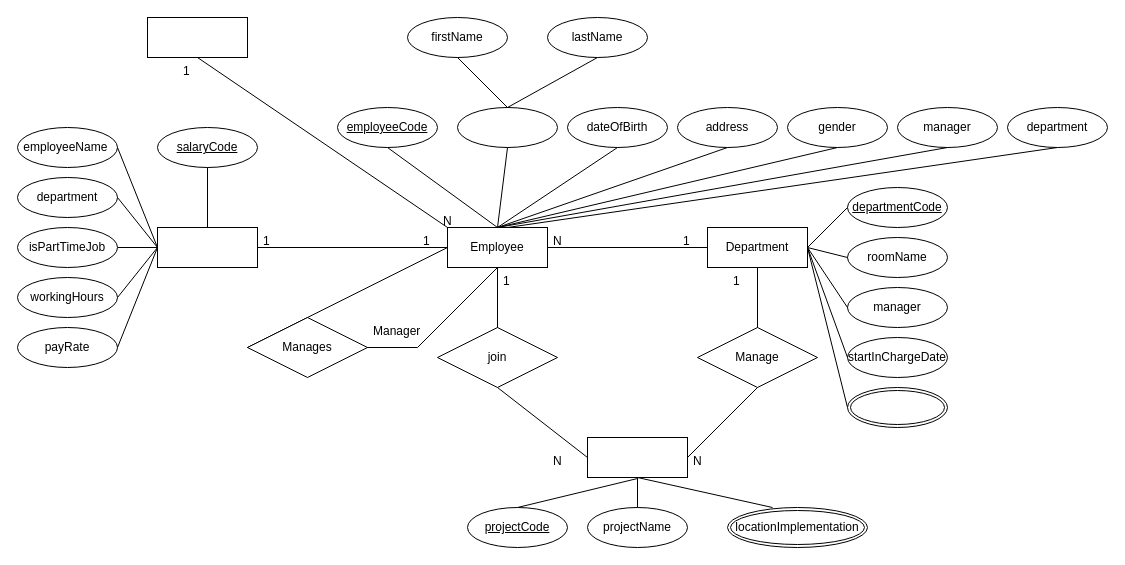
This 1125x565 diagram has some shape labels left out. The shapes that lost their labels are listed below. From the top down, each one's centre as x and y in pixels, then its label:
point 197,37: Industry Company
point 507,127: Full Name
point 207,247: Salary
point 897,407: location
point 637,457: Project
